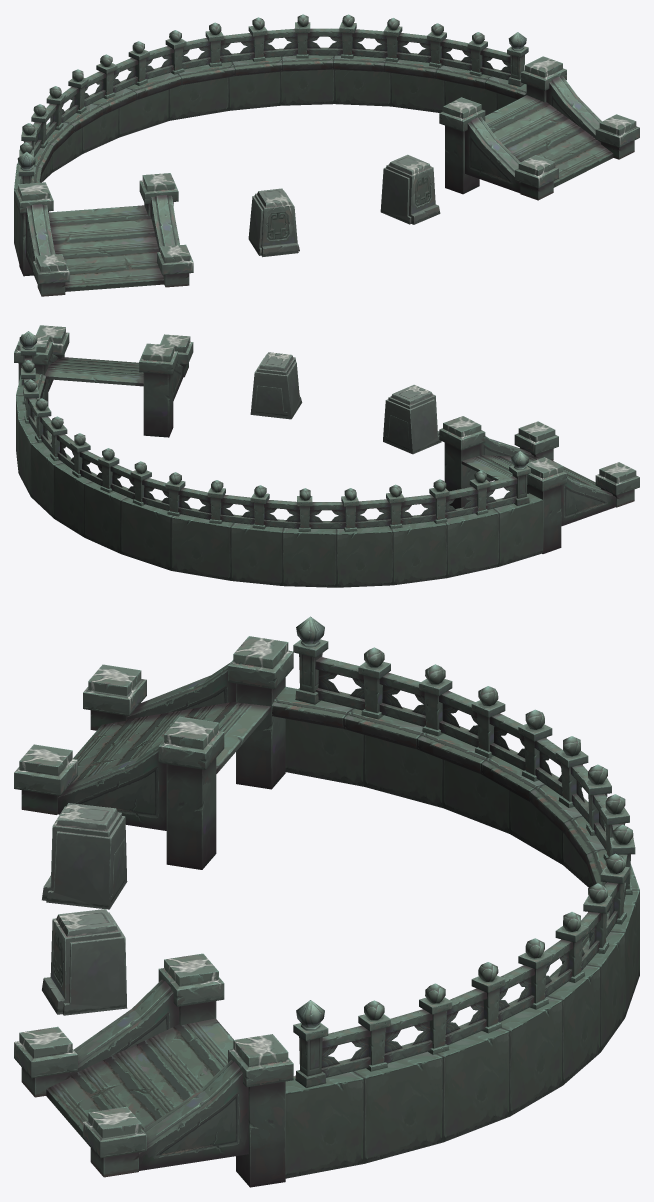
The model's file is fb_plxd_zj_12_b.FBX.
The picture shows the model from 3 angles, top to bottom: view 1: azimuth 30°, elevation 25°; view 2: azimuth 150°, elevation 25°; view 3: azimuth 270°, elevation 25°; orthographic projection. The views are drawn at different scales.
Parts seen in each view (by area): view 1: fb_plxd_zj_12_b; view 2: fb_plxd_zj_12_b; view 3: fb_plxd_zj_12_b.
Part boxes in pixels (x1=…): fb_plxd_zj_12_b: x1=14, y1=14, x2=639, y2=296; fb_plxd_zj_12_b: x1=14, y1=325, x2=639, y2=587; fb_plxd_zj_12_b: x1=14, y1=616, x2=639, y2=1187.
Size of the model in its own units: 2431 by 407 by 1369.
